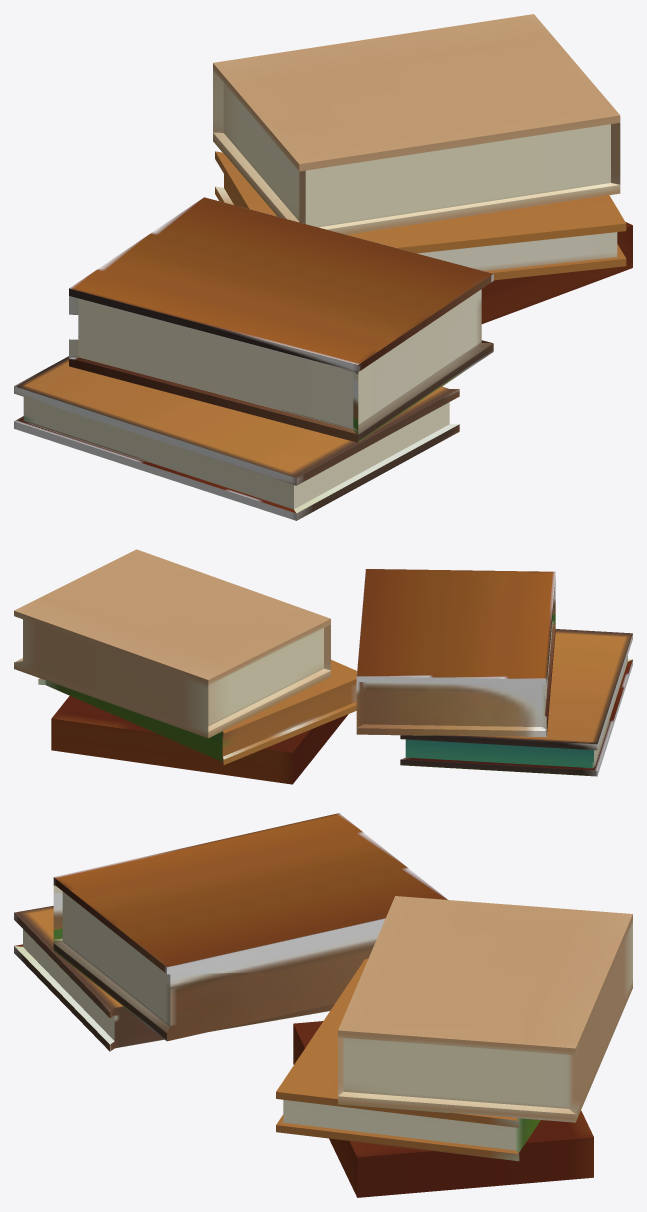
Rendered from RumpusBooks.fbx.
3 views of the same model, one above another, from view 1: azimuth 30°, elevation 25°; view 2: azimuth 150°, elevation 25°; view 3: azimuth 270°, elevation 25° (orthographic). The views are drawn at different scales.
Visible parts, largest first — view 1: Cube.003; view 2: Cube.003; view 3: Cube.003.
Part boxes in pixels (x1,y1,x2,y2): Cube.003: (14, 14, 632, 520); Cube.003: (14, 549, 632, 784); Cube.003: (14, 813, 632, 1197).
Size of the model in its own units: 642 by 156 by 557.
